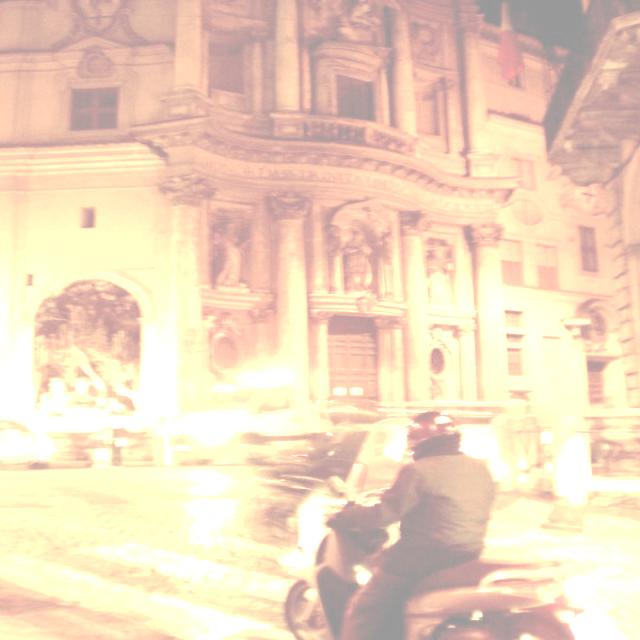Motorbike: (270, 476, 636, 640)
